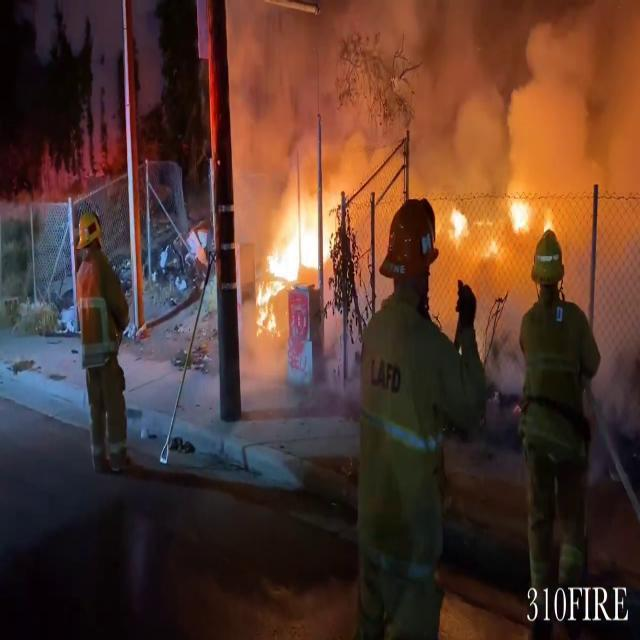Fire: (252, 166, 342, 332)
Smoke: (421, 0, 640, 382), (188, 0, 438, 210)
